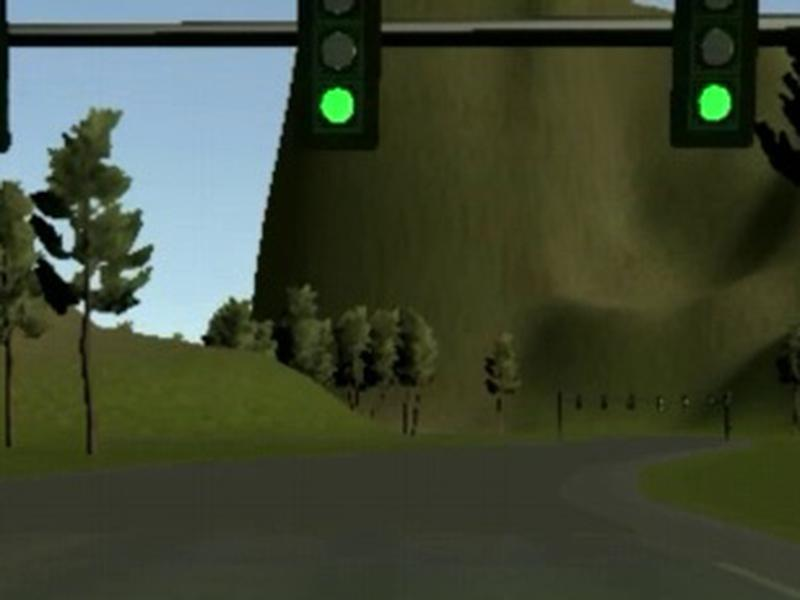Green: (669, 1, 762, 148), (299, 1, 382, 151)
